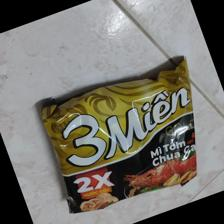3mien: (37, 55, 199, 213)
